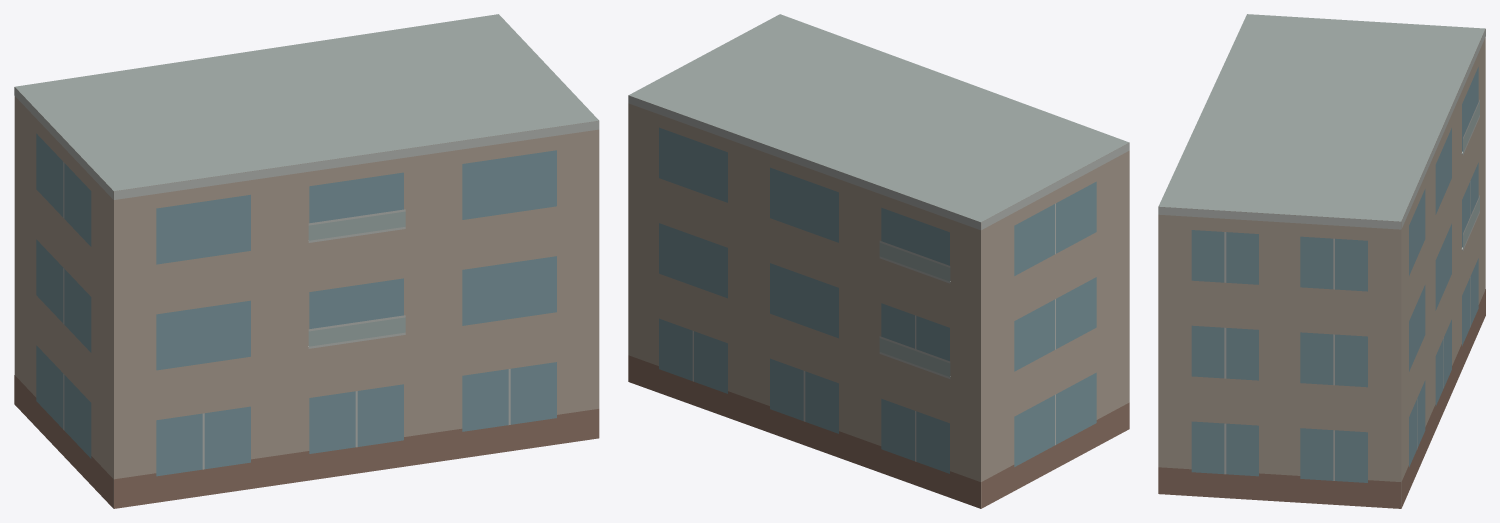
File: survey-upis-32879421.glb
The picture shows the model from 3 angles, left to right: view 1: azimuth 30°, elevation 25°; view 2: azimuth 150°, elevation 25°; view 3: azimuth 270°, elevation 25°; orthographic projection. The views are drawn at different scales.
Visible parts, largest first — view 1: survey-upis-32879421.tmp; view 2: survey-upis-32879421.tmp; view 3: survey-upis-32879421.tmp.
Boxes of the visible parts, <box> form: survey-upis-32879421.tmp: <box>14,14,599,508</box>; survey-upis-32879421.tmp: <box>628,14,1129,508</box>; survey-upis-32879421.tmp: <box>1158,14,1485,508</box>.
Size of the model in its own units: 13.49 by 8.7 by 8.99.
